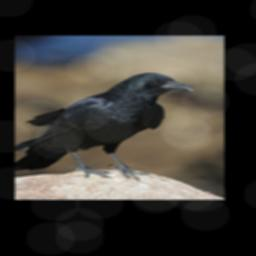Crow: (15, 72, 196, 181)
